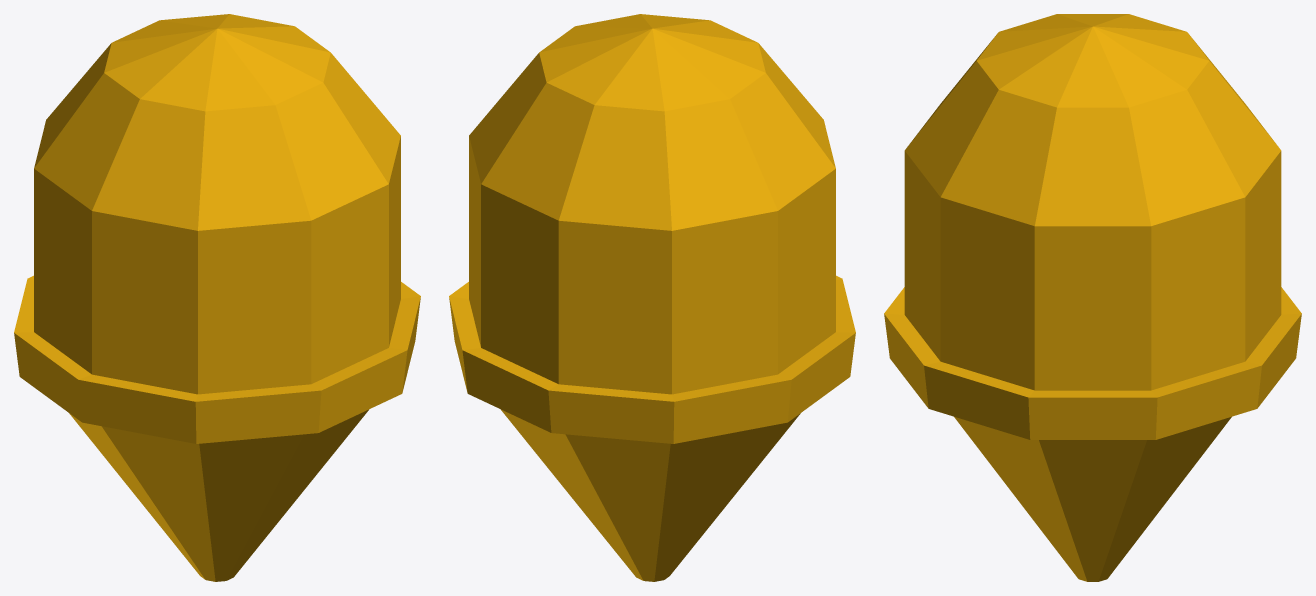
File: Ab_Balise_A.FBX
3 views of the same model, side by side, from view 1: azimuth 30°, elevation 25°; view 2: azimuth 150°, elevation 25°; view 3: azimuth 270°, elevation 25° (orthographic).
Parts seen in each view (by area): view 1: Sphere001; view 2: Sphere001; view 3: Sphere001.
Part boxes in pixels (x1,y1,x2,y2): Sphere001: [14, 14, 420, 581]; Sphere001: [449, 14, 855, 581]; Sphere001: [884, 14, 1301, 581].
Size of the model in its own units: 57.95 by 88.22 by 60.93.
